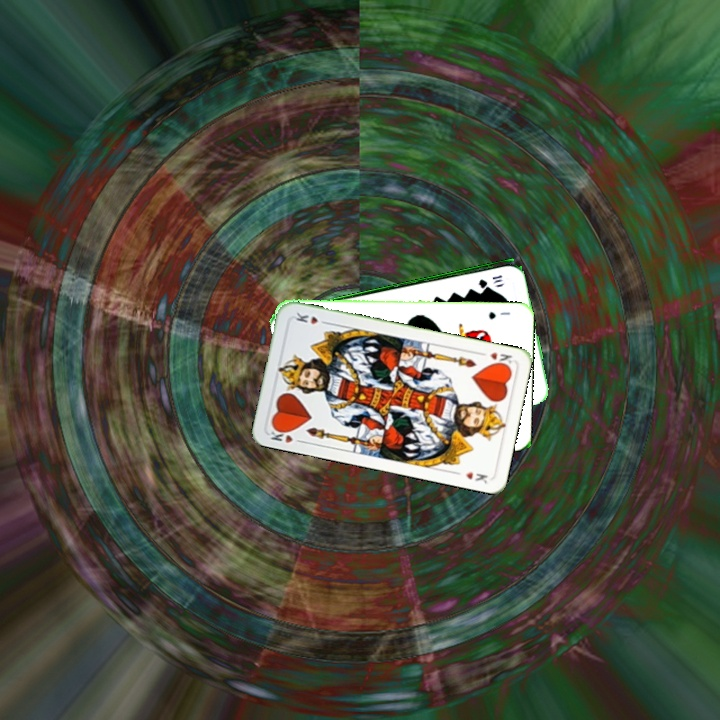G10: (474, 271, 505, 288)
GU: (485, 308, 512, 321)
HK: (266, 423, 306, 446), (486, 348, 516, 370)
